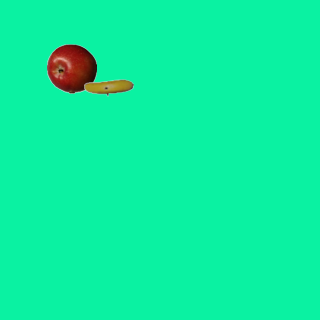Apple Braeburn: (46, 43, 96, 93)
Banana: (83, 62, 133, 112)
